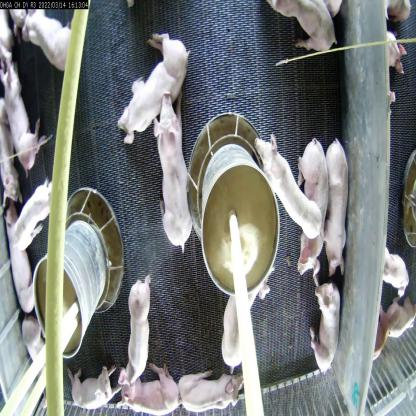Pig: (252, 122, 325, 240), (122, 24, 185, 140), (0, 60, 48, 184), (158, 93, 193, 248), (304, 281, 351, 376), (323, 140, 354, 274), (27, 4, 76, 82), (295, 148, 326, 266), (126, 271, 162, 370), (178, 363, 246, 415), (3, 183, 58, 239), (125, 374, 174, 412), (75, 370, 116, 414)
